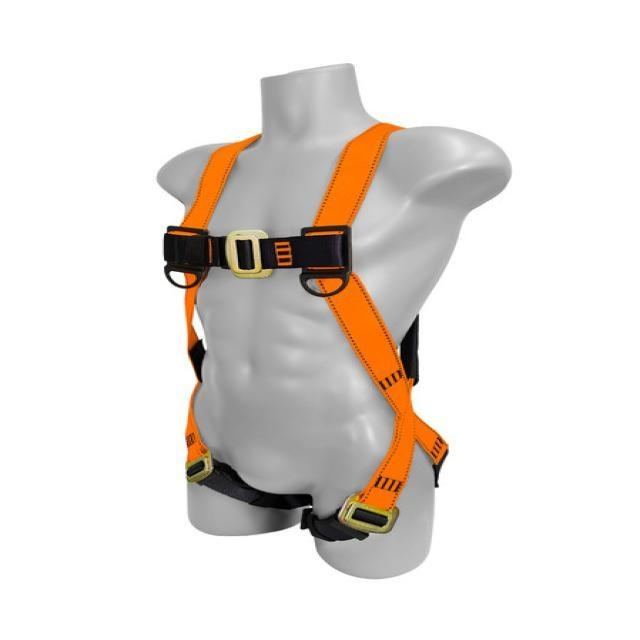Arnes_seguridad: (165, 119, 459, 538)
